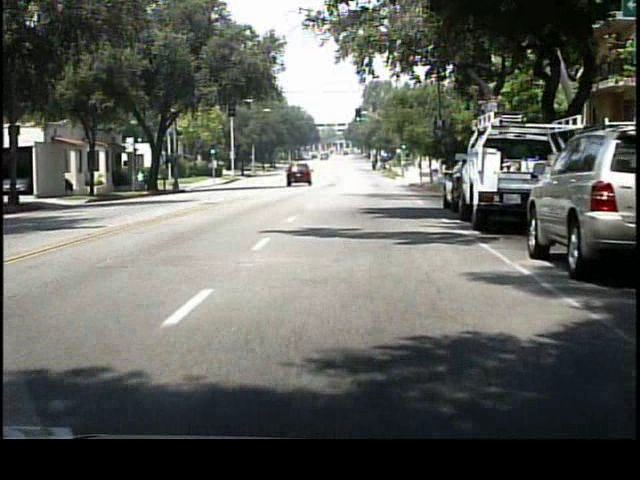person: (139, 168, 147, 192)
